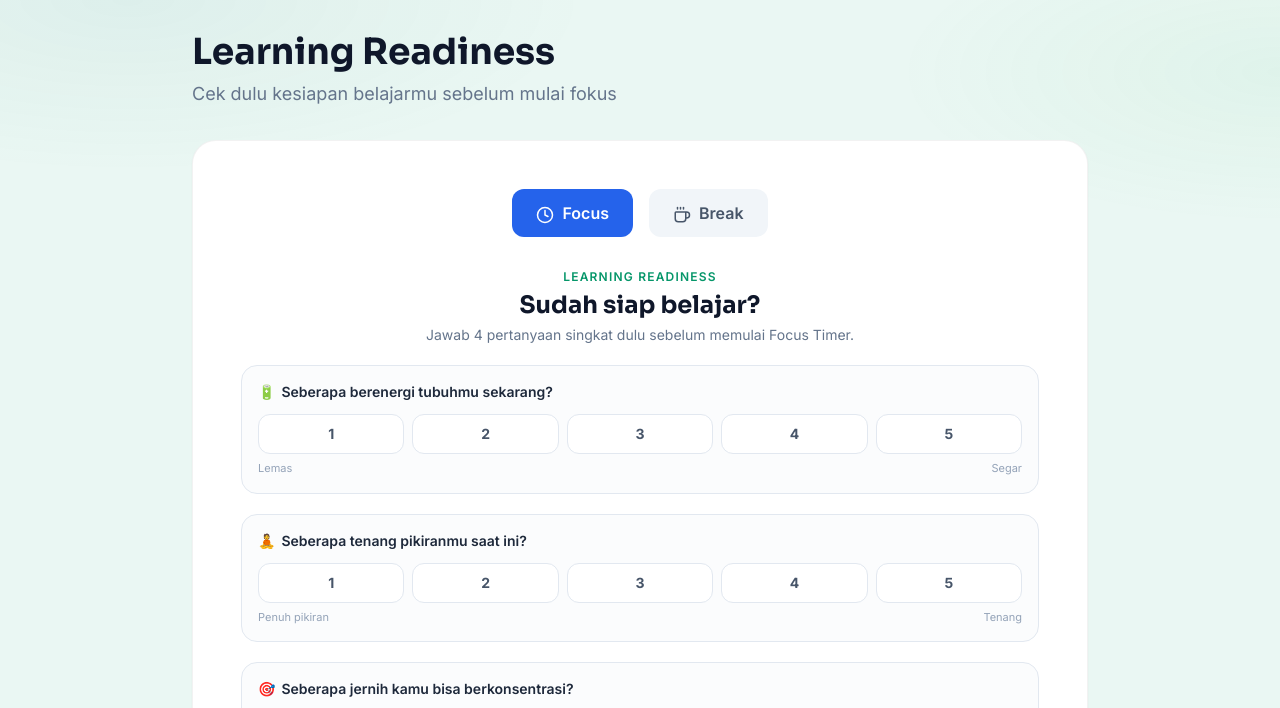
FocusTimerDesktop — gerbang Learning Readiness › mode break tidak ikut terkunci (istirahat boleh kapan saja)
What coordinates should you click on to do the following:
click the button "Break"
I would click on:
 (708, 213)
Its box is [649,189,768,237].
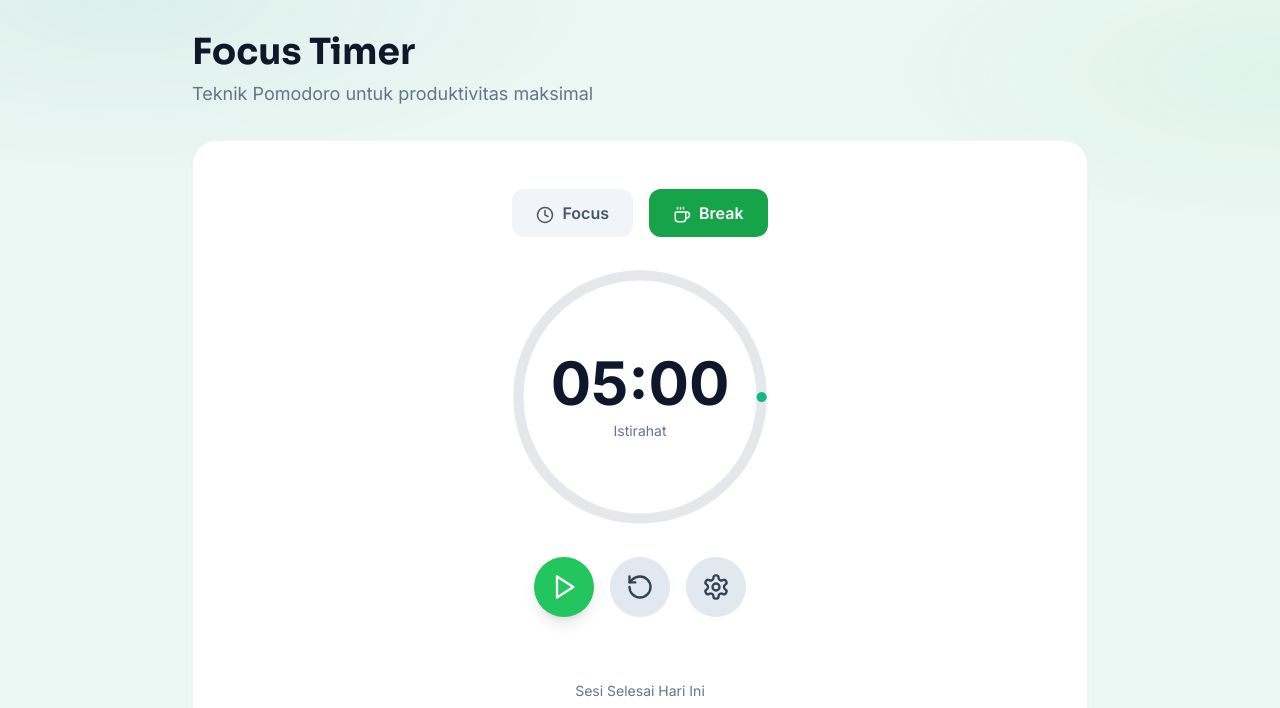
Check: the heading "Sudah siap belajar" is gone
